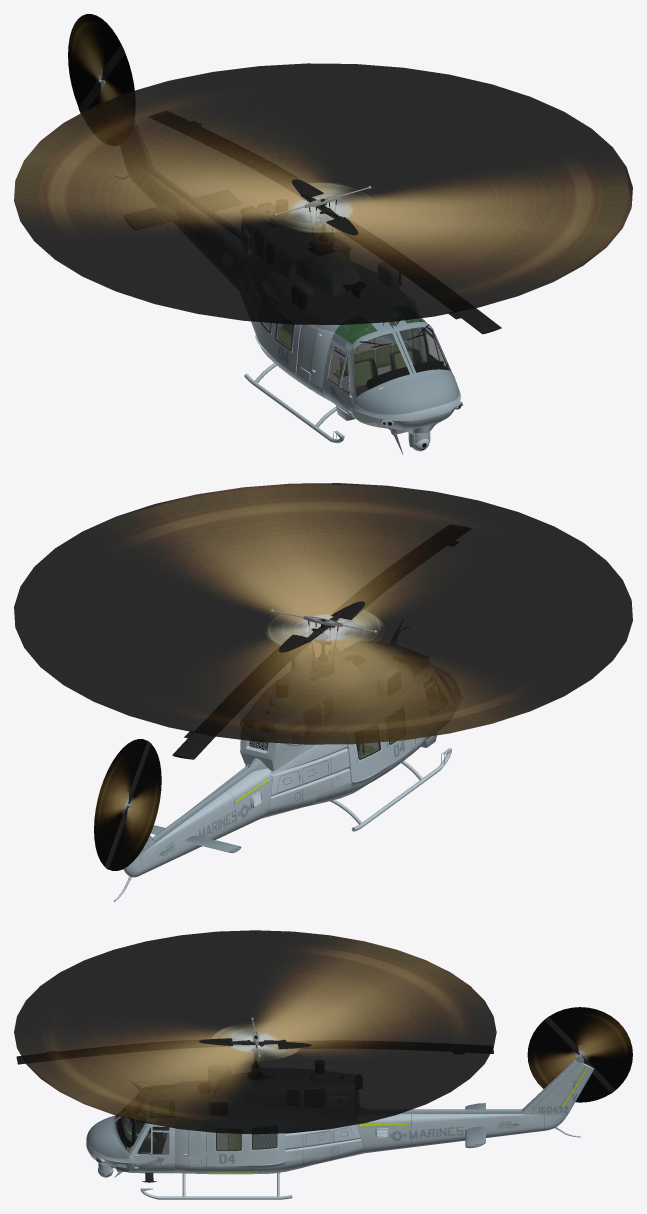
The model's file is navy_uh-1n.fbx.
The picture shows the model from 3 angles, top to bottom: view 1: azimuth 30°, elevation 25°; view 2: azimuth 150°, elevation 25°; view 3: azimuth 270°, elevation 25°; orthographic projection. The views are drawn at different scales.
Visible parts, largest first — view 1: prop_fly, defalt, sub_prop_fly, grass, prop_ground, pilot_door, cargo_door_r, sub_prop; view 2: prop_fly, defalt, sub_prop_fly, prop_ground, cargo_door_r, sub_prop; view 3: prop_fly, defalt, sub_prop_fly, cargo_door_l, co_pilot_door, prop_ground, grass, sub_prop.
Boxes of the visible parts, box(x1,y1,x2,y2) form: prop_fly: box(14, 63, 632, 324); defalt: box(98, 79, 462, 454); sub_prop_fly: box(68, 14, 134, 109); grass: box(352, 327, 451, 429); prop_ground: box(273, 179, 501, 334); pilot_door: box(322, 339, 353, 415); cargo_door_r: box(256, 322, 301, 373); sub_prop: box(78, 45, 125, 113); prop_fly: box(14, 483, 632, 744); defalt: box(114, 735, 451, 901); sub_prop_fly: box(94, 739, 161, 870); prop_ground: box(172, 601, 376, 759); cargo_door_r: box(347, 739, 412, 782); sub_prop: box(104, 741, 151, 869); prop_fly: box(14, 930, 496, 1134); defalt: box(86, 1054, 594, 1199); sub_prop_fly: box(527, 1007, 632, 1102); cargo_door_l: box(208, 1132, 285, 1166); co_pilot_door: box(135, 1123, 174, 1170); prop_ground: box(16, 1017, 493, 1064); grass: box(110, 1116, 144, 1172); sub_prop: box(544, 1016, 615, 1093).
Size of the model in its own units: 157418 by 61088 by 201877.
Materials: 35 (11 with a texture image).
